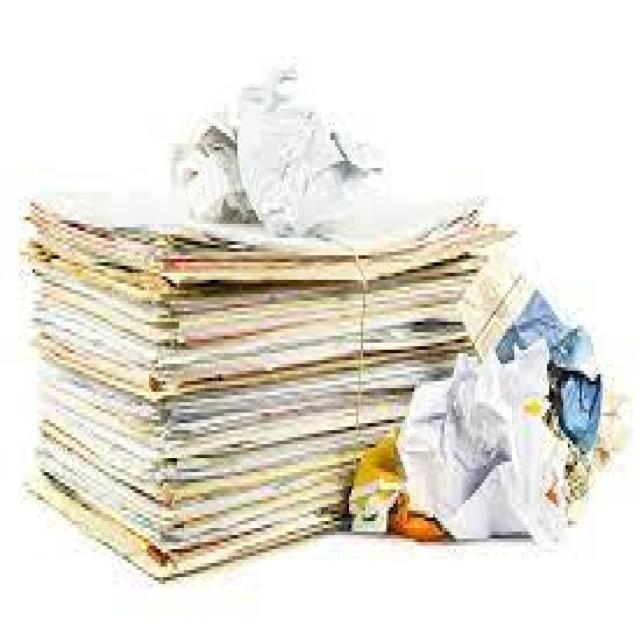Paper -Biodegradable-: (26, 56, 634, 585)
